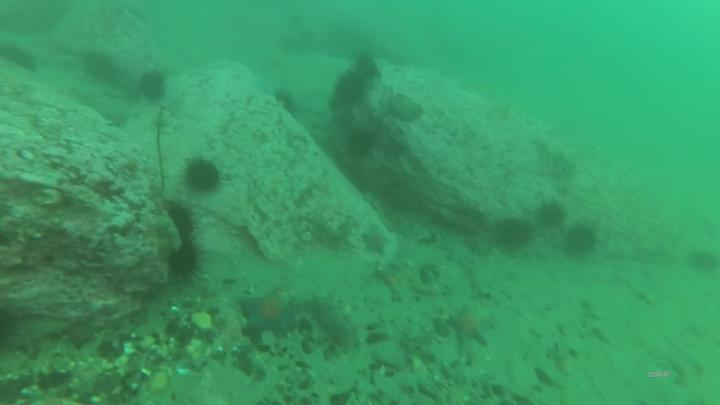echinus: (166, 239, 207, 288), (488, 215, 535, 257), (180, 154, 225, 197), (558, 222, 601, 262), (331, 68, 371, 111), (165, 201, 200, 244), (344, 125, 379, 166), (80, 49, 118, 86), (135, 66, 169, 107), (1, 42, 41, 74), (535, 197, 568, 231), (685, 248, 720, 276), (272, 89, 300, 120), (354, 52, 383, 81)
holothurian: (303, 295, 361, 353)
starfish: (235, 286, 306, 344), (447, 303, 494, 353), (438, 235, 479, 269), (357, 222, 392, 258)
